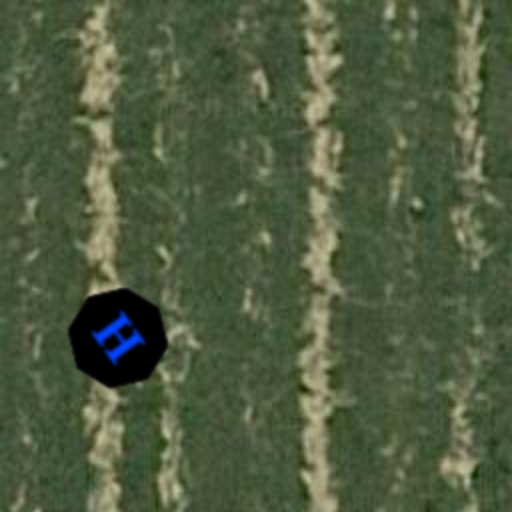octagon: (44, 264, 192, 412)
